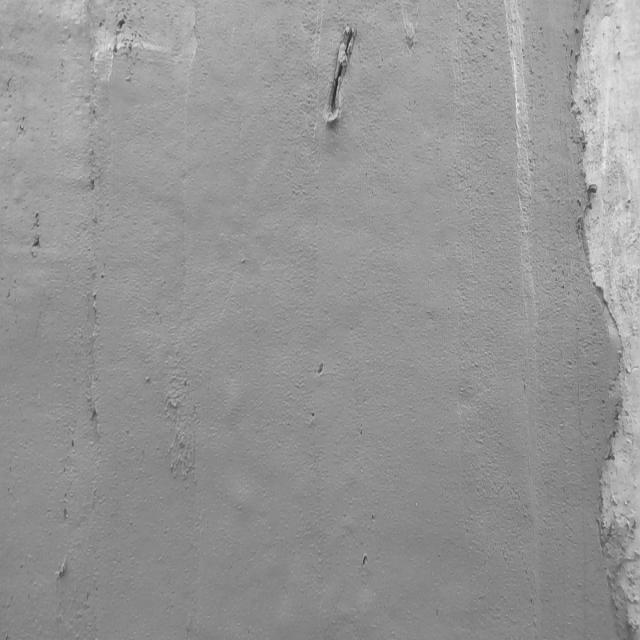trowels marks: (85, 9, 101, 513)
